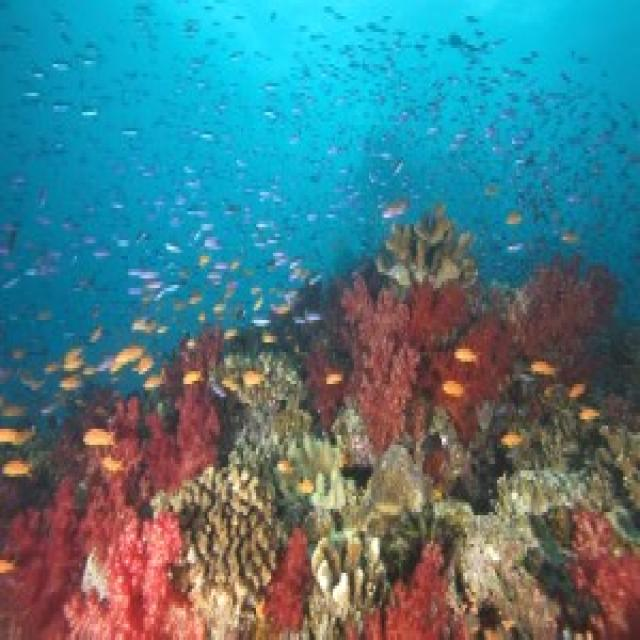Healthy: (308, 260, 618, 452), (3, 385, 221, 638), (152, 459, 287, 625), (458, 471, 583, 638), (291, 433, 379, 609), (362, 545, 462, 638), (571, 513, 639, 638), (268, 529, 308, 628)
